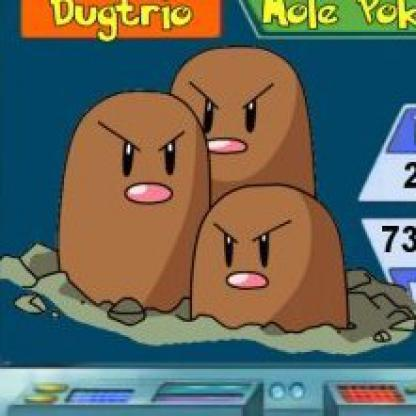Dugtrio: (18, 48, 405, 354)
